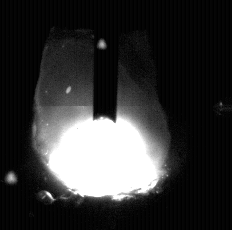arame: (93, 0, 118, 123)
poca: (31, 0, 171, 230)
